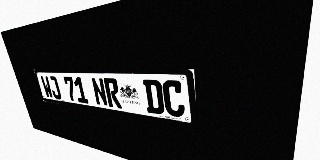1: (72, 77, 89, 104)
7: (63, 77, 78, 102)
C: (162, 80, 185, 118)
D: (143, 79, 165, 115)
J: (48, 76, 62, 100)
N: (91, 78, 108, 107)
R: (103, 78, 122, 109)
W: (40, 76, 54, 99)
